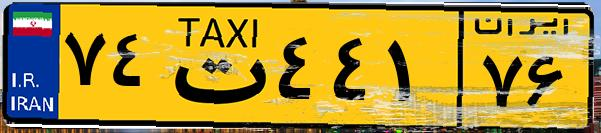1: (385, 28, 445, 110)
4: (270, 28, 330, 110), (330, 28, 385, 110), (110, 28, 158, 98)
6: (525, 38, 570, 115)
7: (57, 26, 110, 100), (475, 38, 525, 113)
ت: (158, 12, 270, 120)
